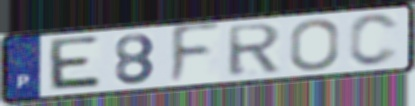8: (114, 32, 157, 86)
C: (346, 12, 402, 69)
E: (45, 34, 105, 92)
F: (167, 20, 224, 89)
O: (288, 17, 342, 73)
R: (225, 21, 284, 78)
